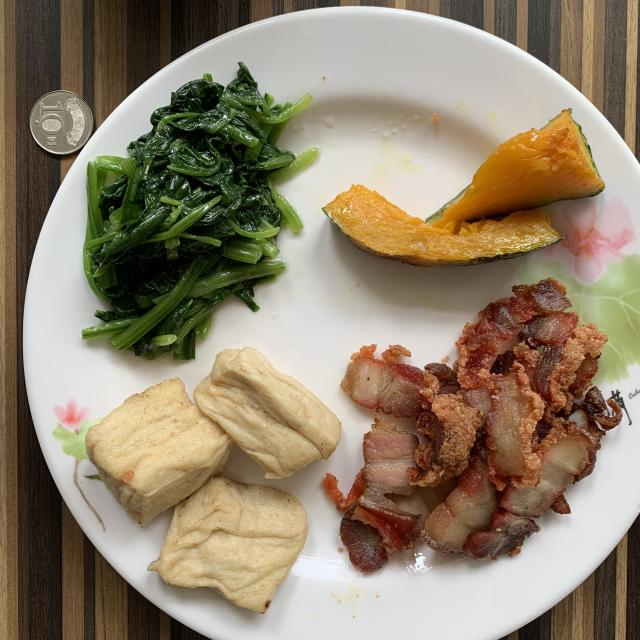coin: (30, 91, 94, 155)
creamy tofu -without sauce-: (85, 348, 341, 612)
mustard greens: (82, 62, 312, 360)
pumpkin: (324, 109, 605, 266)
red grilled pork: (322, 279, 622, 571)
